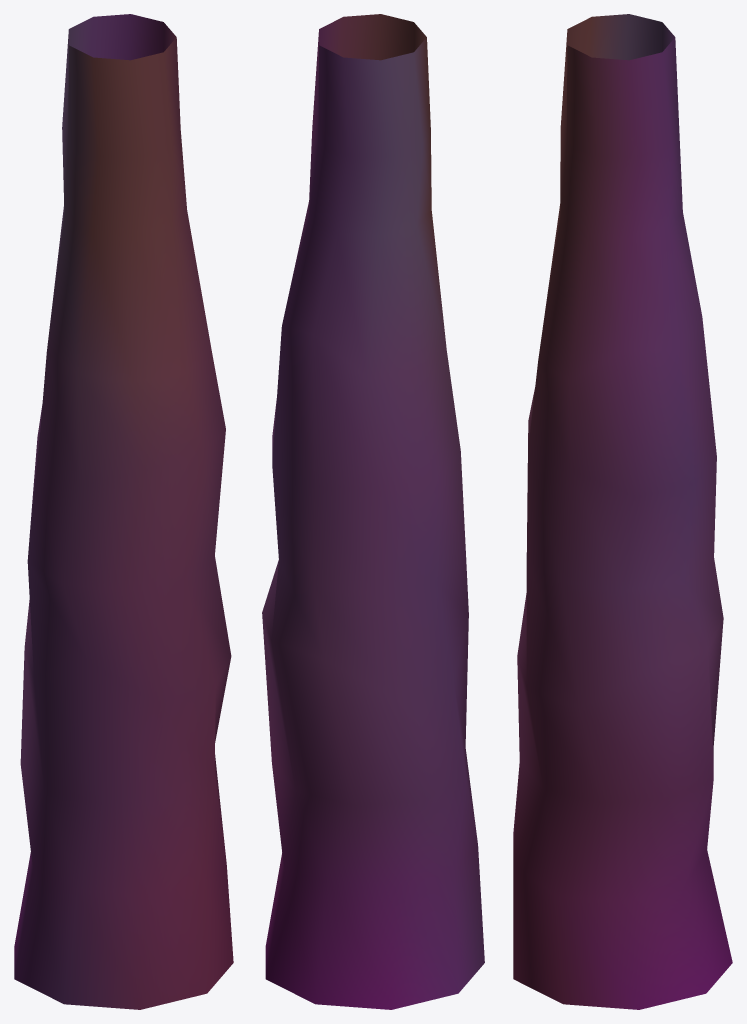
The model's file is vc_tunnel_002.fbx.
3 views of the same model, side by side, from view 1: azimuth 30°, elevation 25°; view 2: azimuth 150°, elevation 25°; view 3: azimuth 270°, elevation 25° (orthographic).
Visible parts, largest first — view 1: Circle; view 2: Circle; view 3: Circle.
Part boxes in pixels (x1,y1,x2,y2): Circle: [14, 14, 233, 1009]; Circle: [262, 14, 484, 1009]; Circle: [513, 14, 732, 1009].
Bounding box in the file's own units: 529 × 2425 × 521.
